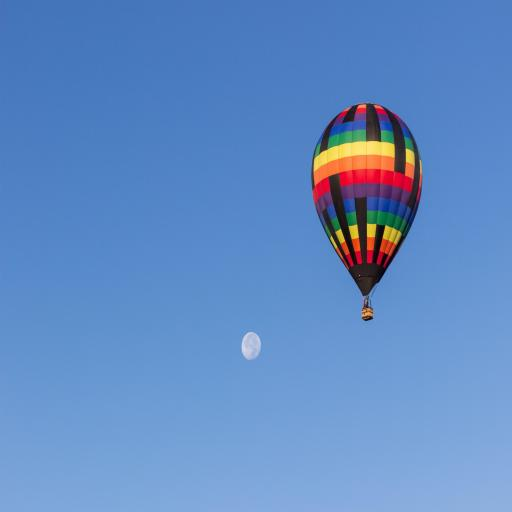hot air ballon: (312, 104, 423, 323)
